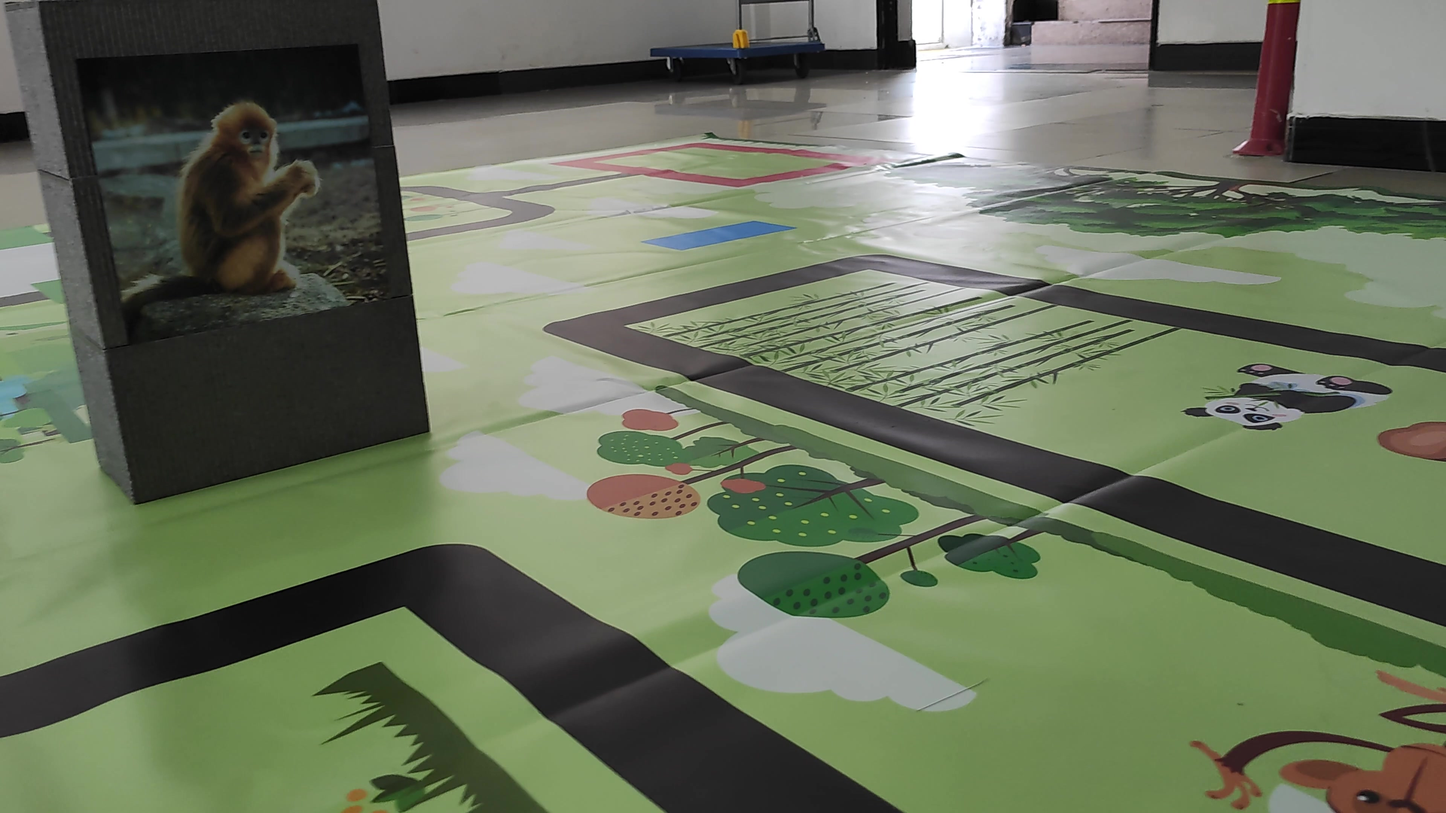monkey: (111, 69, 354, 321)
